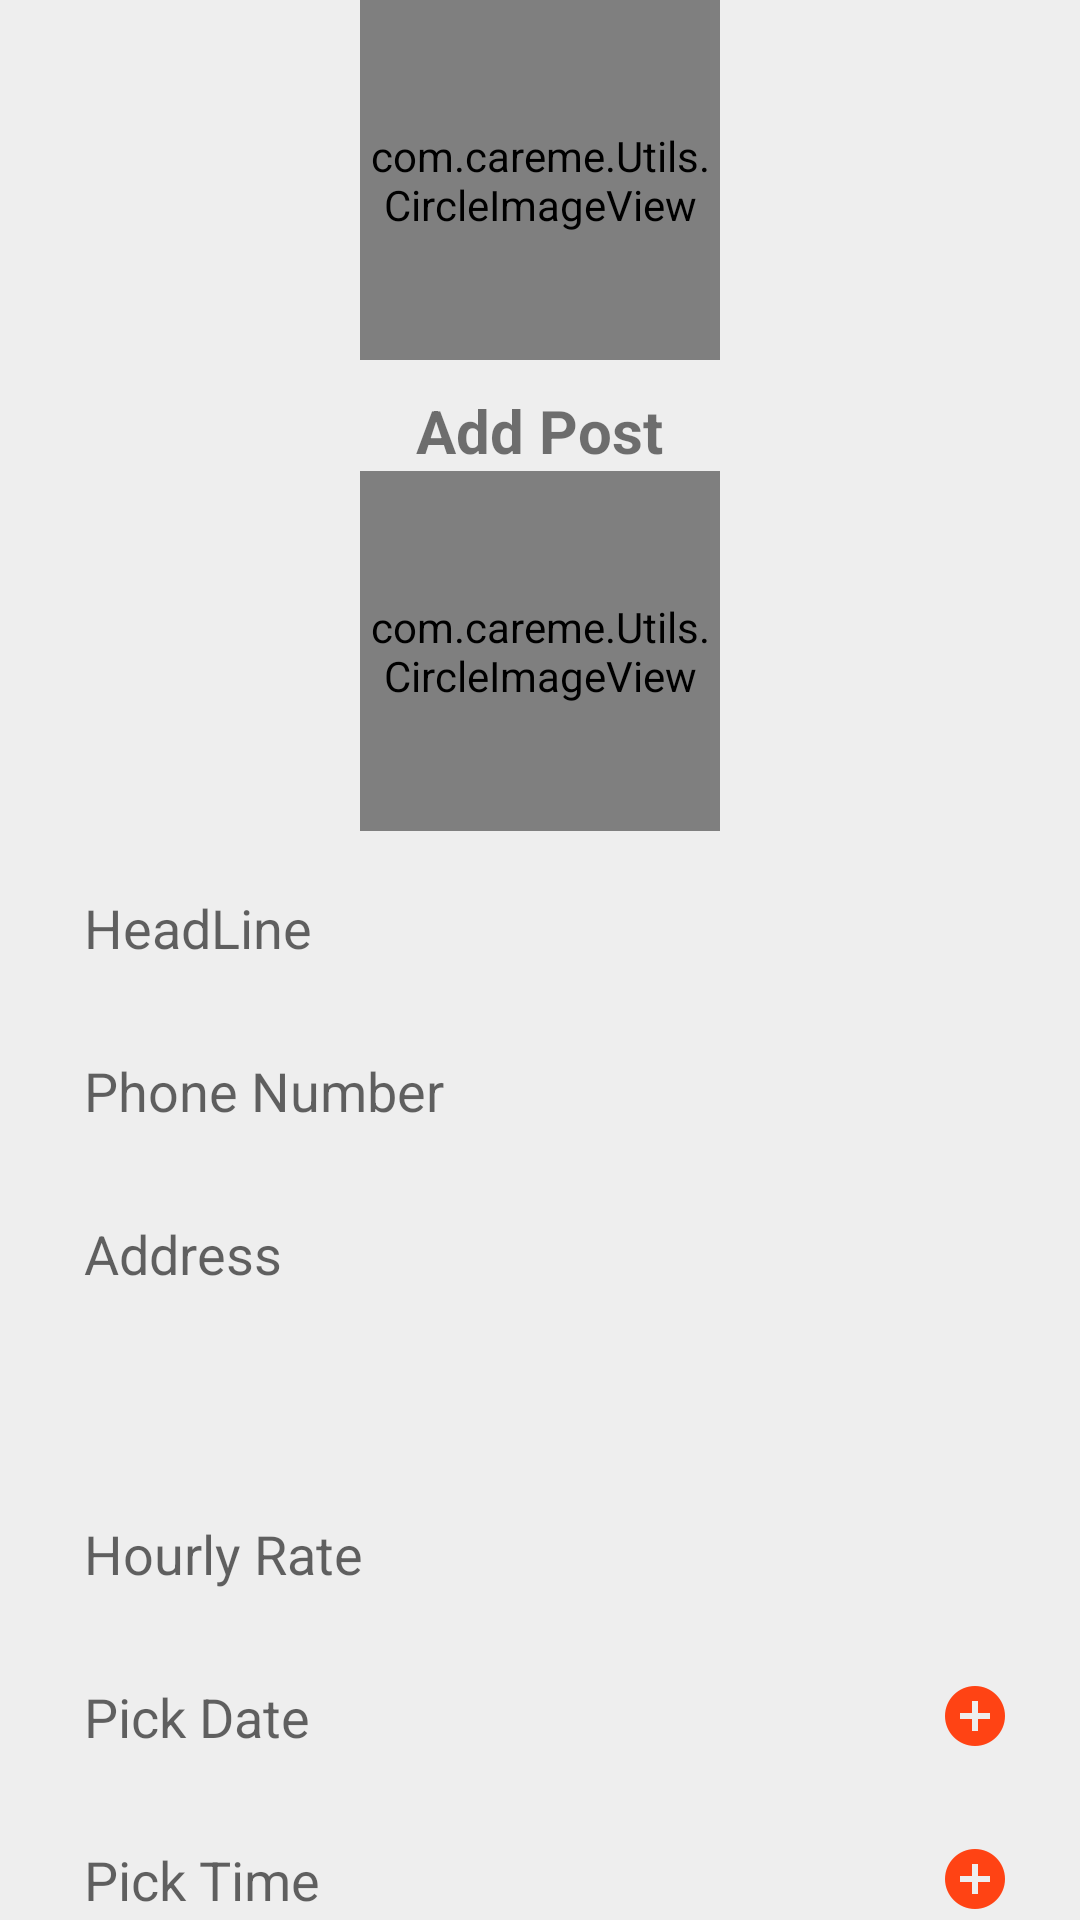

Icons on this 1080px x 1920px Android screen, each with the point to tap as (x,y):
add circle: (975,1716), (975,1879)
